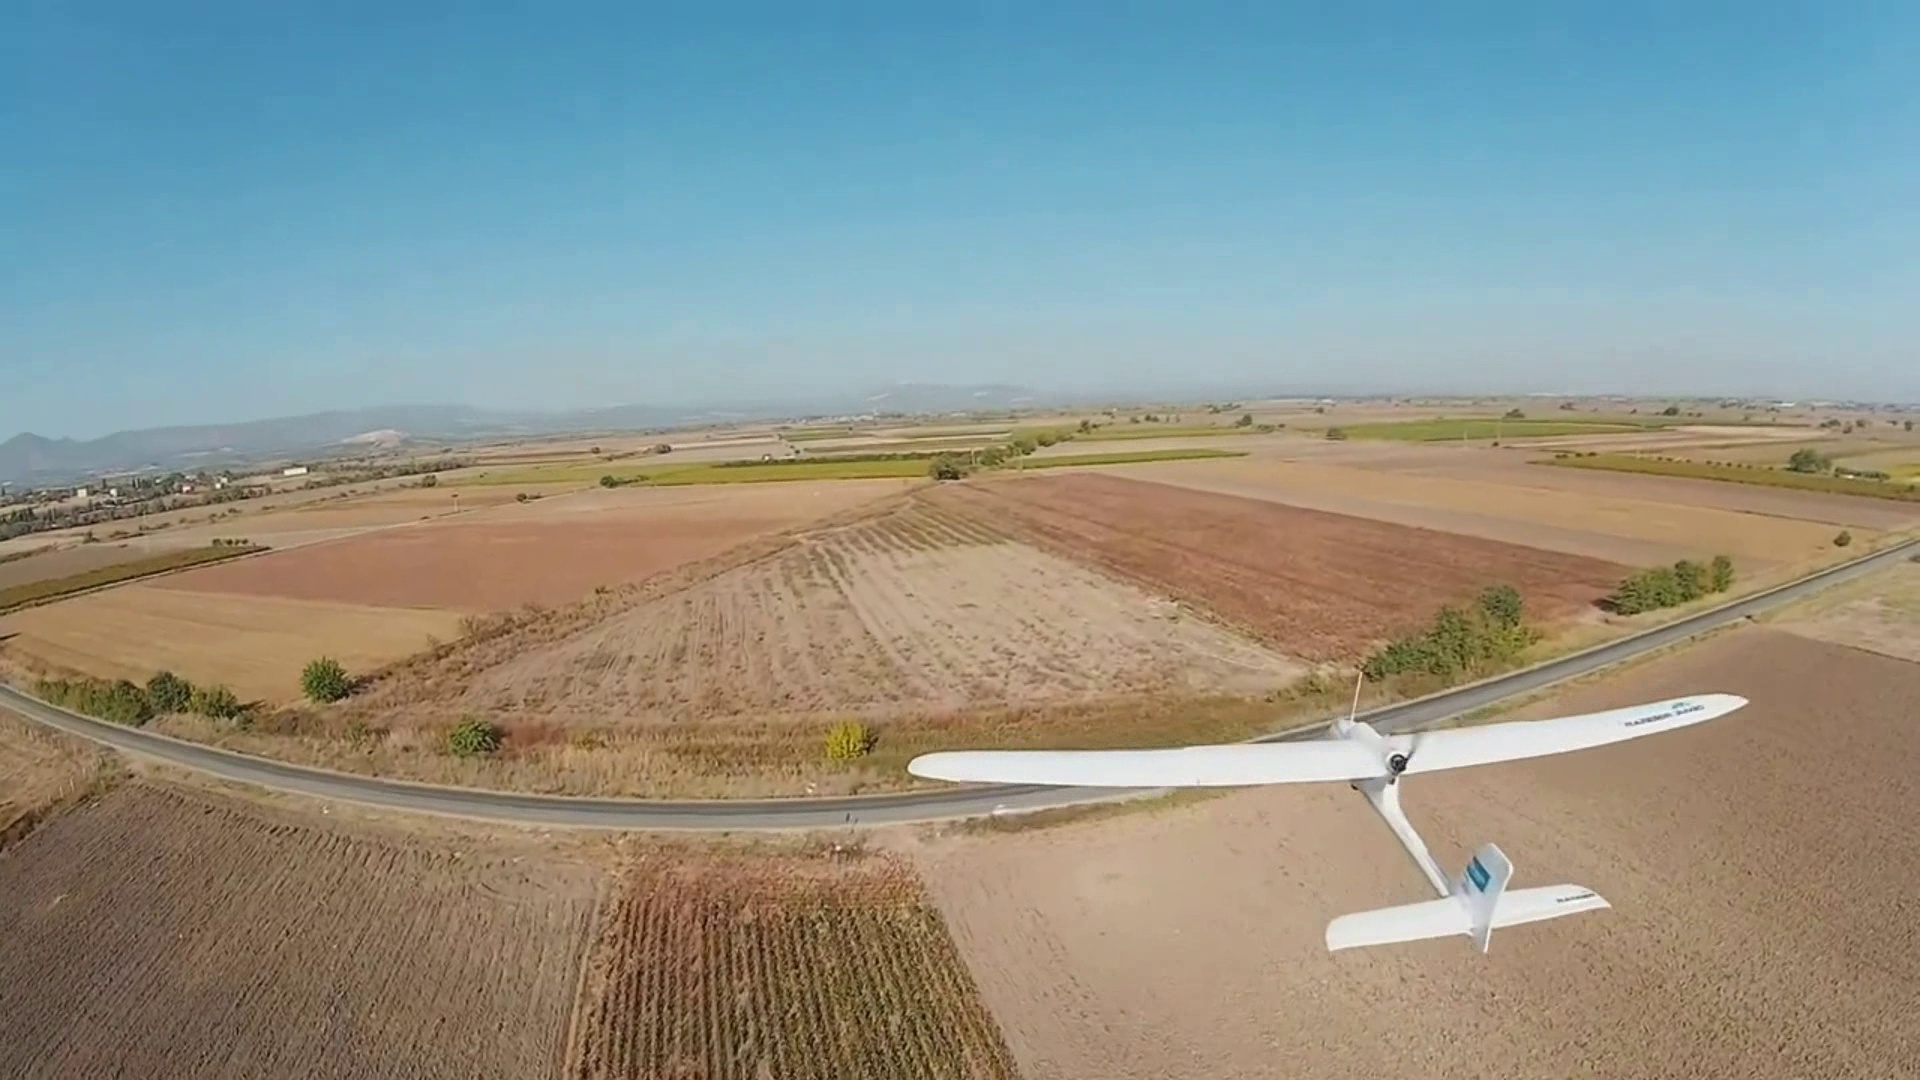airplane: (895, 530, 1910, 955)
